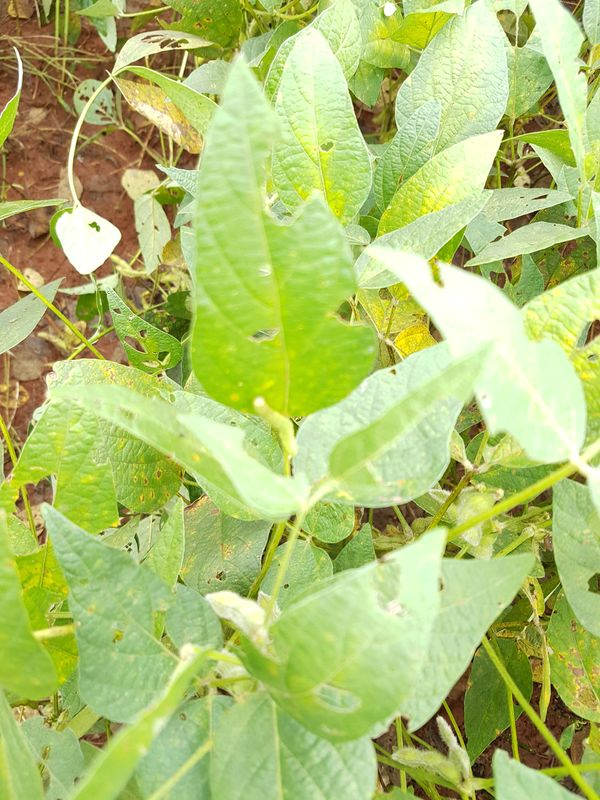Anticarsia_gemmatalis: (236, 389, 314, 473)
